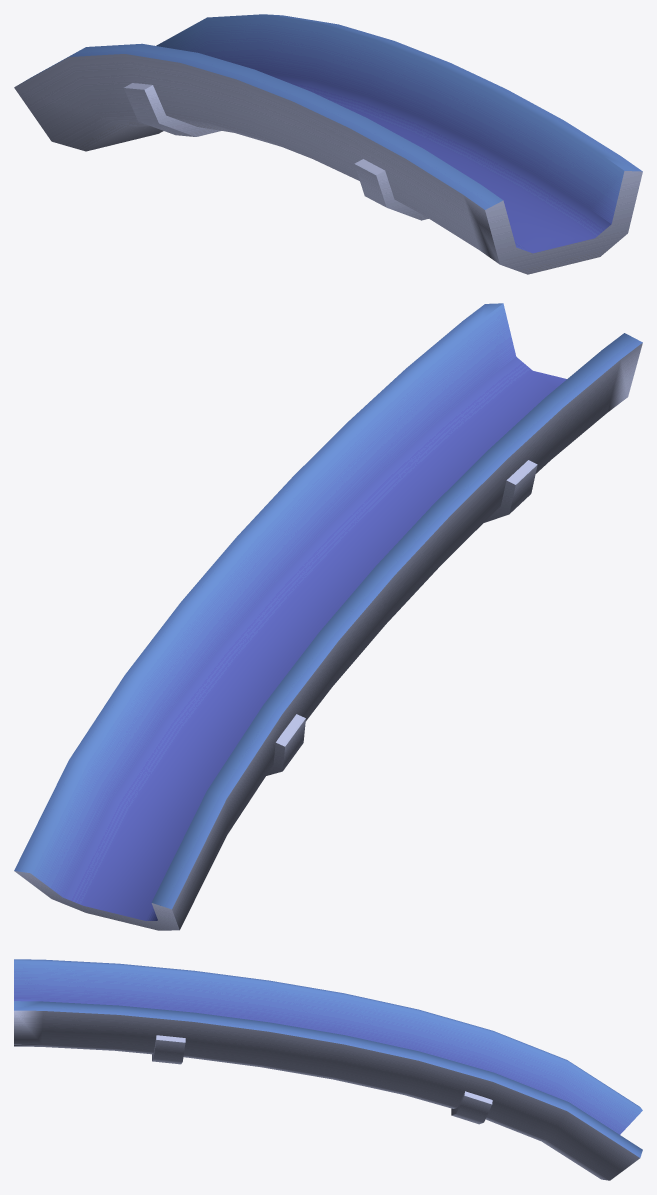
Rendered from coaster-flume-straight-hill-end.glb.
3 renders of one model, top to bottom at view 1: azimuth 30°, elevation 25°; view 2: azimuth 150°, elevation 25°; view 3: azimuth 270°, elevation 25°, orthographic. The views are drawn at different scales.
Visible parts, largest first — view 1: coaster-flume-straight-hill-end; view 2: coaster-flume-straight-hill-end; view 3: coaster-flume-straight-hill-end.
Part boxes in pixels (<box>): coaster-flume-straight-hill-end: <box>14,14,642,274</box>; coaster-flume-straight-hill-end: <box>14,303,642,930</box>; coaster-flume-straight-hill-end: <box>14,959,642,1180</box>.
Size of the model in its own units: 2.53 by 4.2 by 12.85.
1 material, 1 textured.
